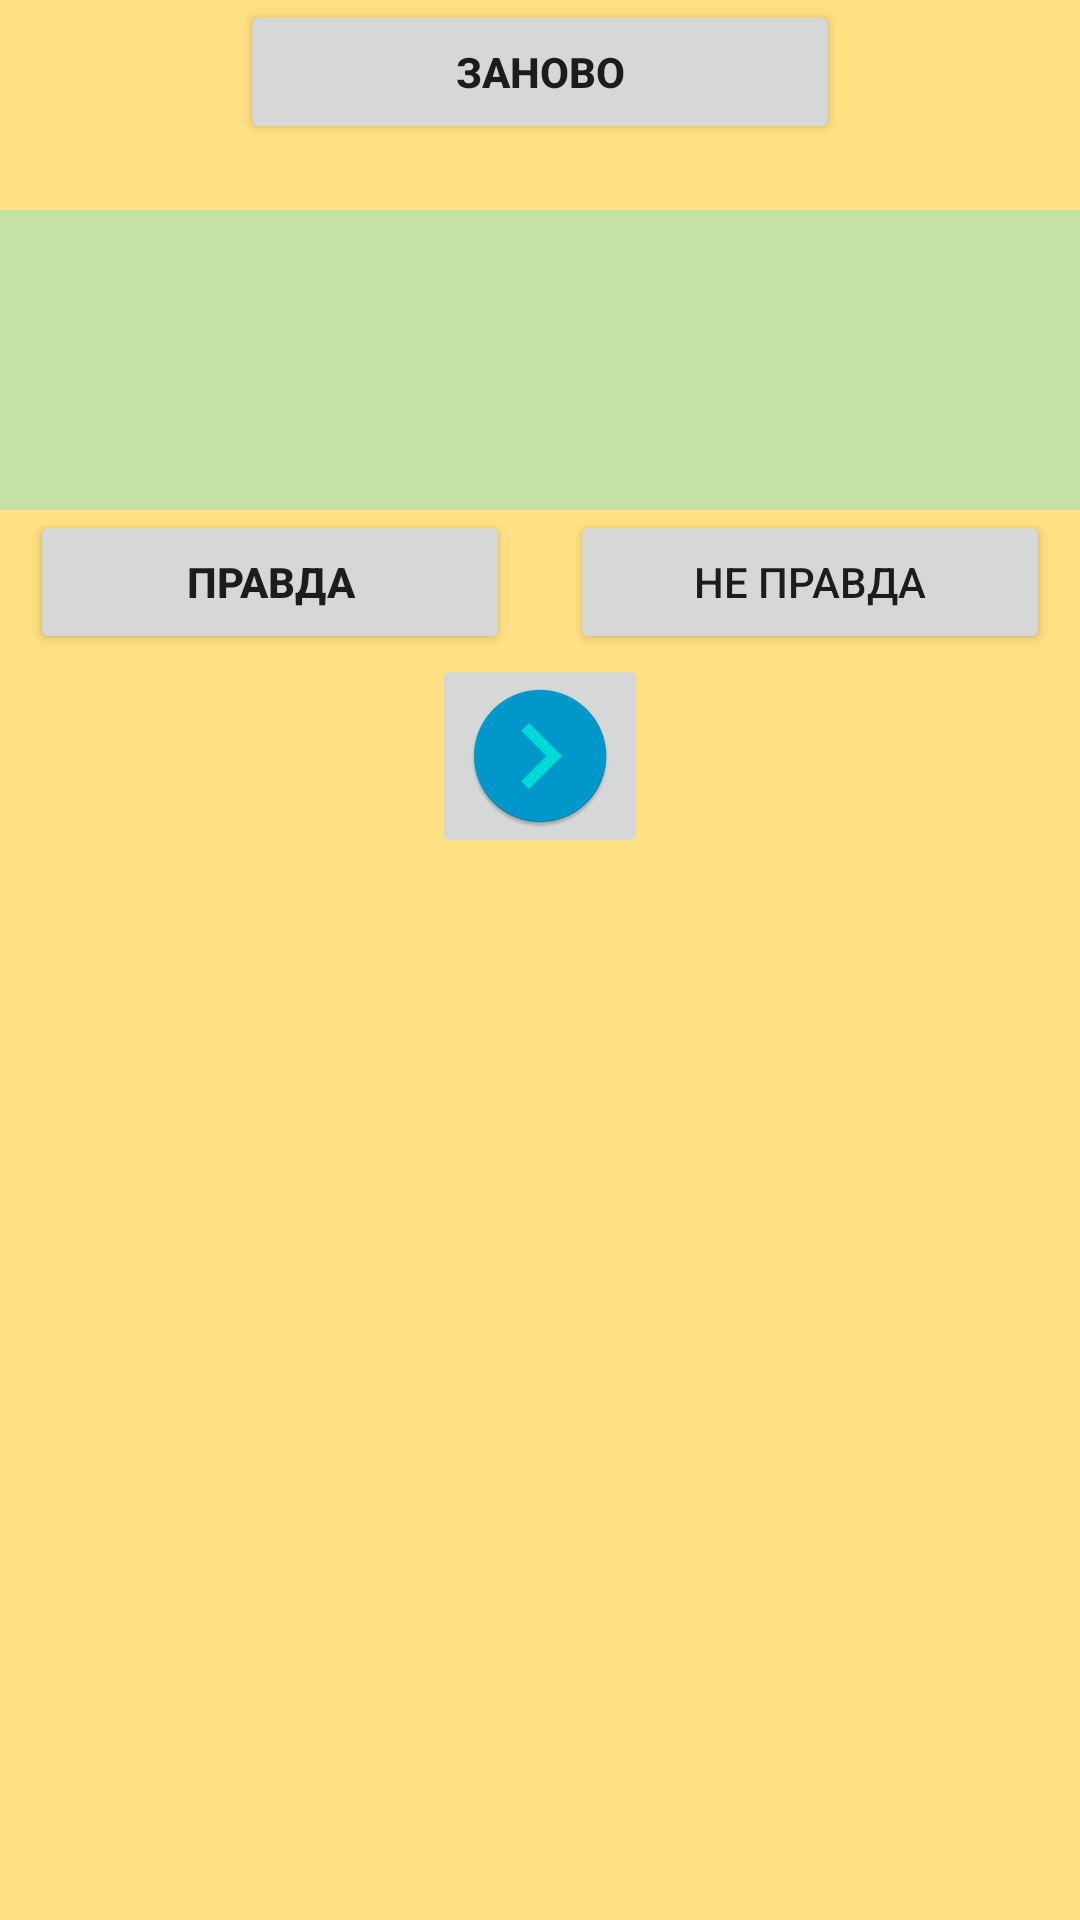

Where to tap for icons on this 1080 × 1920 app screen, as point (x, y):
Next question: point (540, 756)
